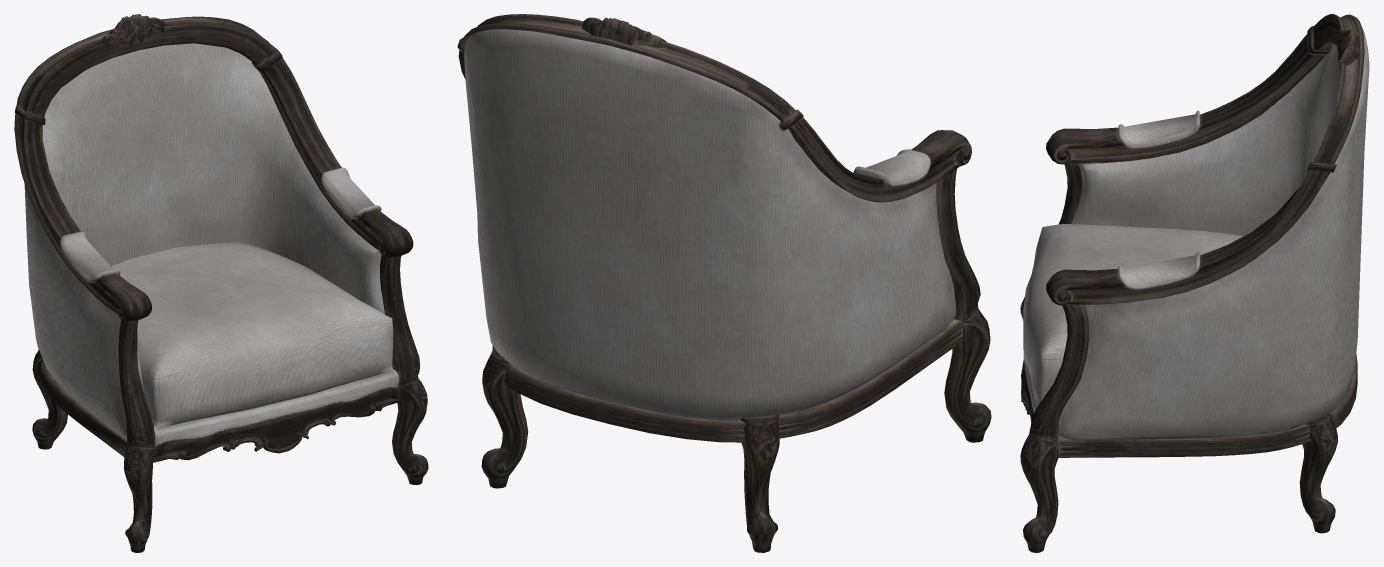
Rendered from 96fec414-09da-42ab-af08-e71c35ed9936.glb.
The picture shows the model from 3 angles, left to right: view 1: azimuth 30°, elevation 25°; view 2: azimuth 150°, elevation 25°; view 3: azimuth 270°, elevation 25°; orthographic projection. The views are drawn at different scales.
Visible parts, largest first — view 1: ArmChair_01; view 2: ArmChair_01; view 3: ArmChair_01.
Part boxes in pixels (x1=…): ArmChair_01: x1=14, y1=14, x2=428, y2=552; ArmChair_01: x1=457, y1=14, x2=991, y2=552; ArmChair_01: x1=1020, y1=14, x2=1369, y2=552.
Size of the model in its own units: 0.8484 by 1.07 by 0.7658.
Materials: 1 (1 with a texture image).
